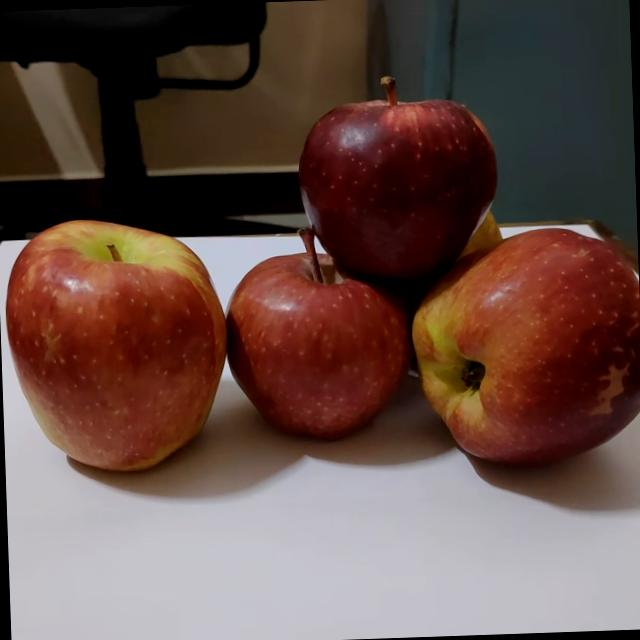apple: (386, 228, 640, 480), (1, 211, 224, 487), (279, 72, 500, 294), (210, 222, 410, 450), (428, 198, 506, 274)
